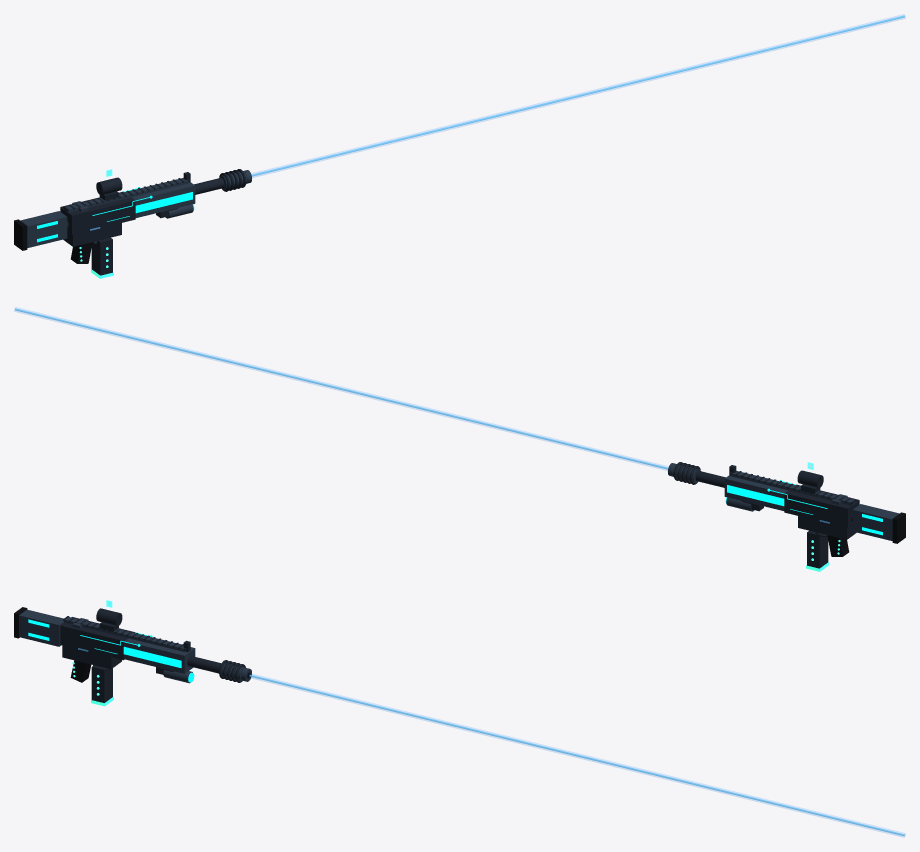
File: hellfire_rifle.glb
3 renders of one model, top to bottom at view 1: azimuth 30°, elevation 25°; view 2: azimuth 150°, elevation 25°; view 3: azimuth 330°, elevation 25°, orthographic.
Bounding box in the file's own units: 15.38 × 1.7 × 0.406.
